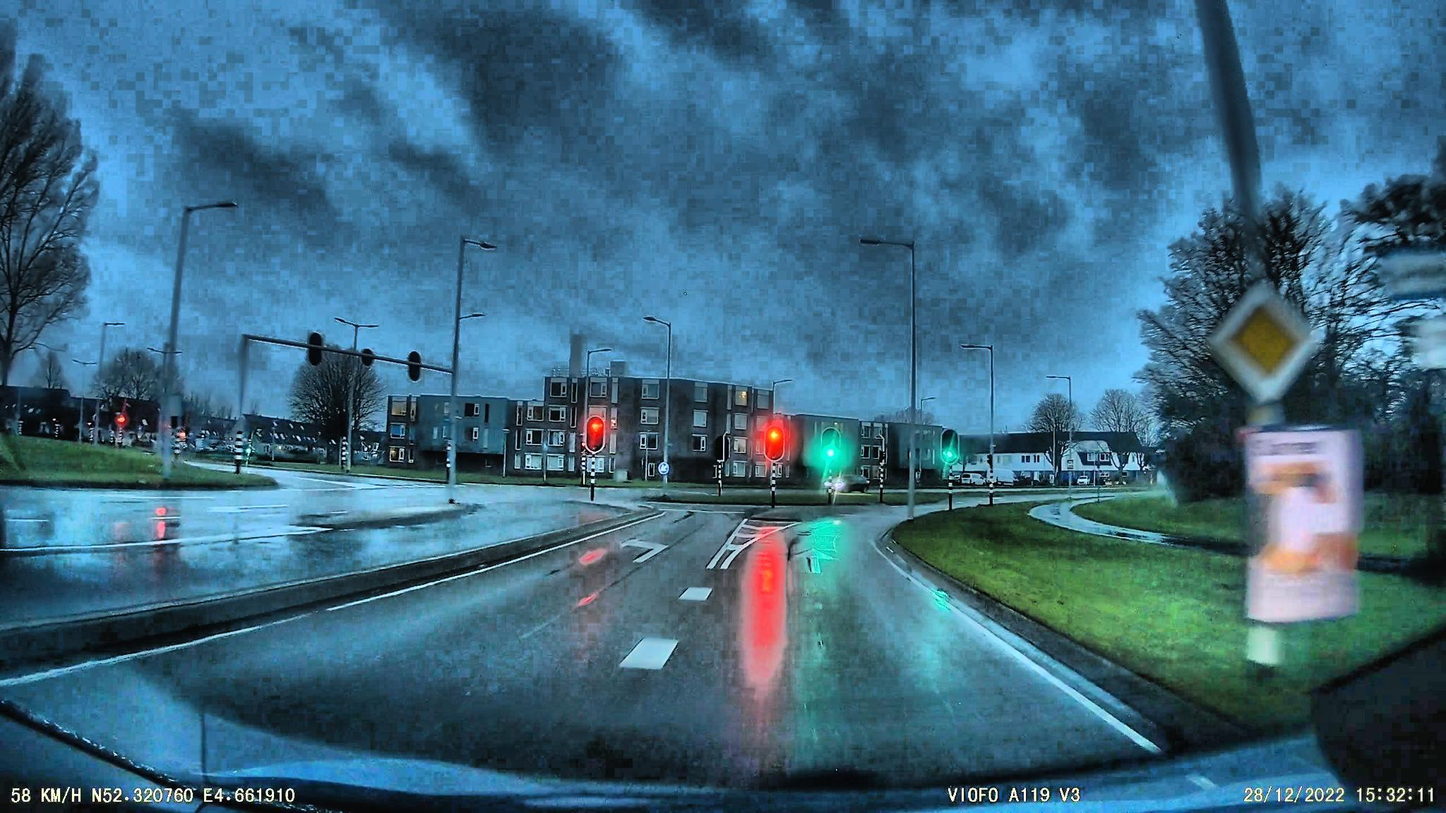Roads: (0, 506, 1339, 813)
